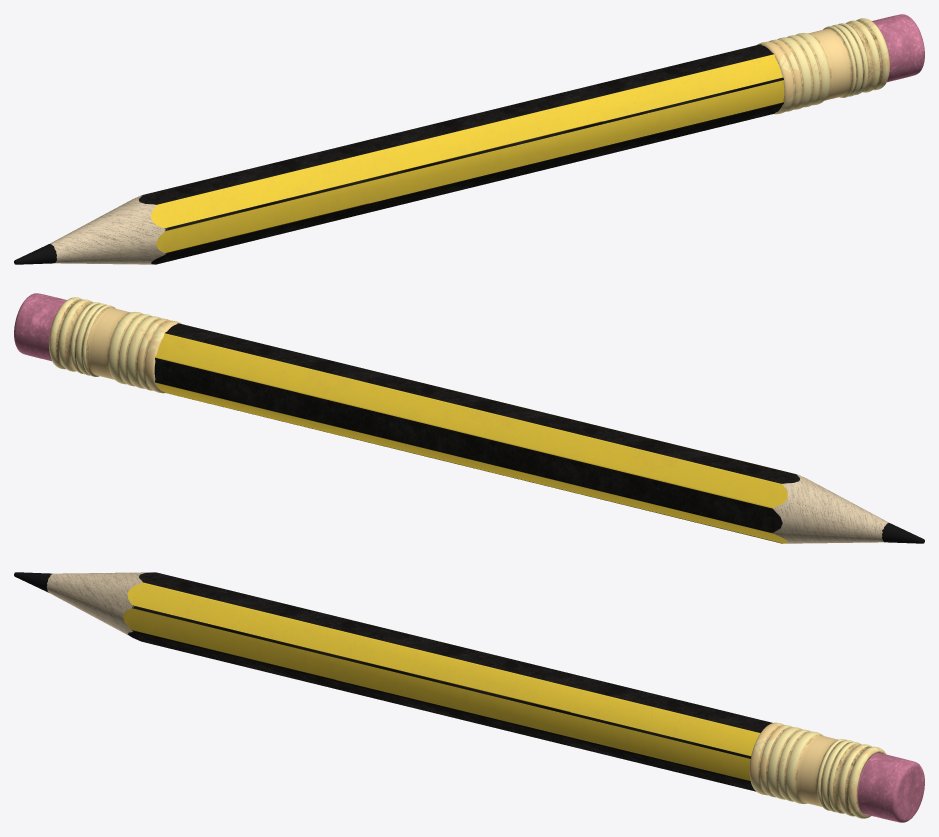
File: Pencil.fbx
The picture shows the model from 3 angles, top to bottom: view 1: azimuth 30°, elevation 25°; view 2: azimuth 150°, elevation 25°; view 3: azimuth 330°, elevation 25°; orthographic projection.
Visible parts, largest first — view 1: Cylinder, Cylinder.001; view 2: Cylinder, Cylinder.001; view 3: Cylinder, Cylinder.001.
Part boxes in pixels (x1,y1,x2,y2): Cylinder: (14,44,784,264); Cylinder.001: (757,14,924,114); Cylinder: (154,323,924,543); Cylinder.001: (14,293,181,393); Cylinder: (14,572,772,791); Cylinder.001: (749,722,924,822).
Bounding box in the file's own units: 825 × 58.68 × 58.68.
